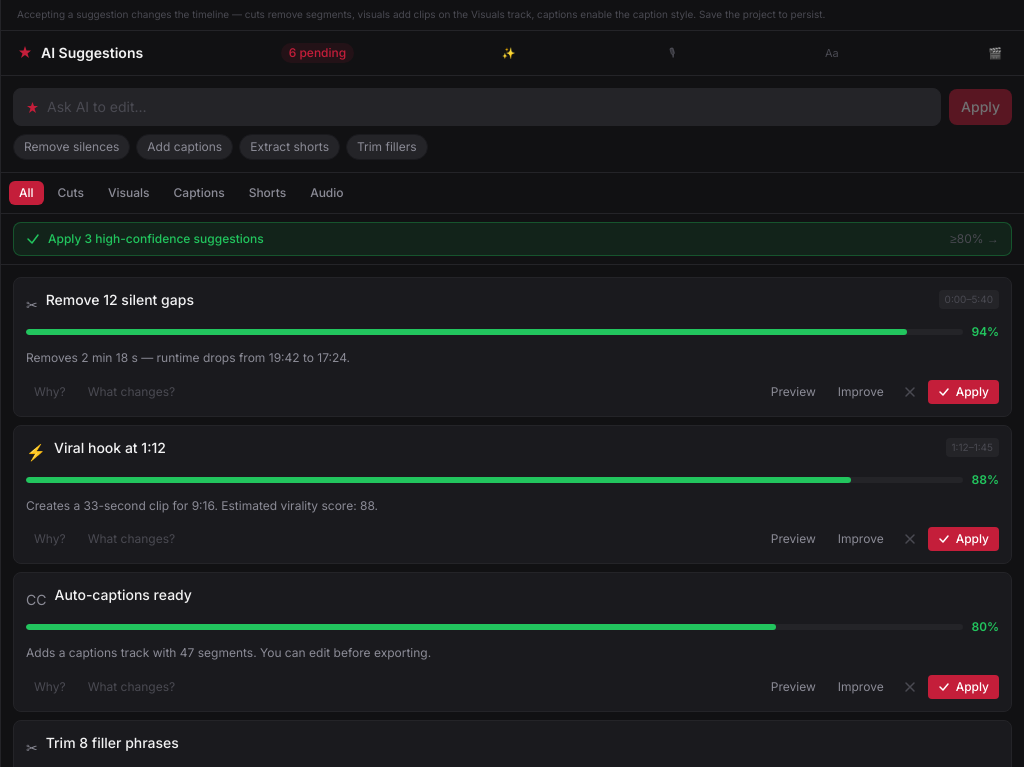
Test: AIPanel — expandable sections › clicking "Why?" reveals the reasoning section
This screenshot has width=1024, height=767.
Click the button with test id "why-toggle-s1" at point(50, 392), box [26,380,74,404]
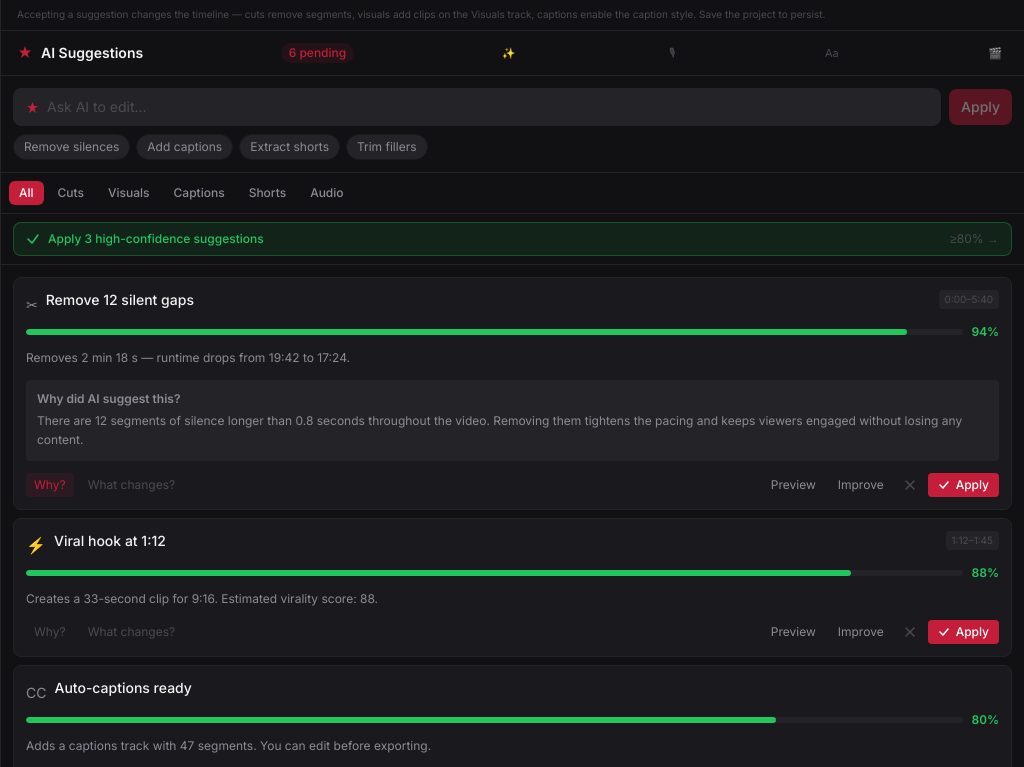
Expected: the element with test id "why-section-s1" is shown, [26,380,999,461]
